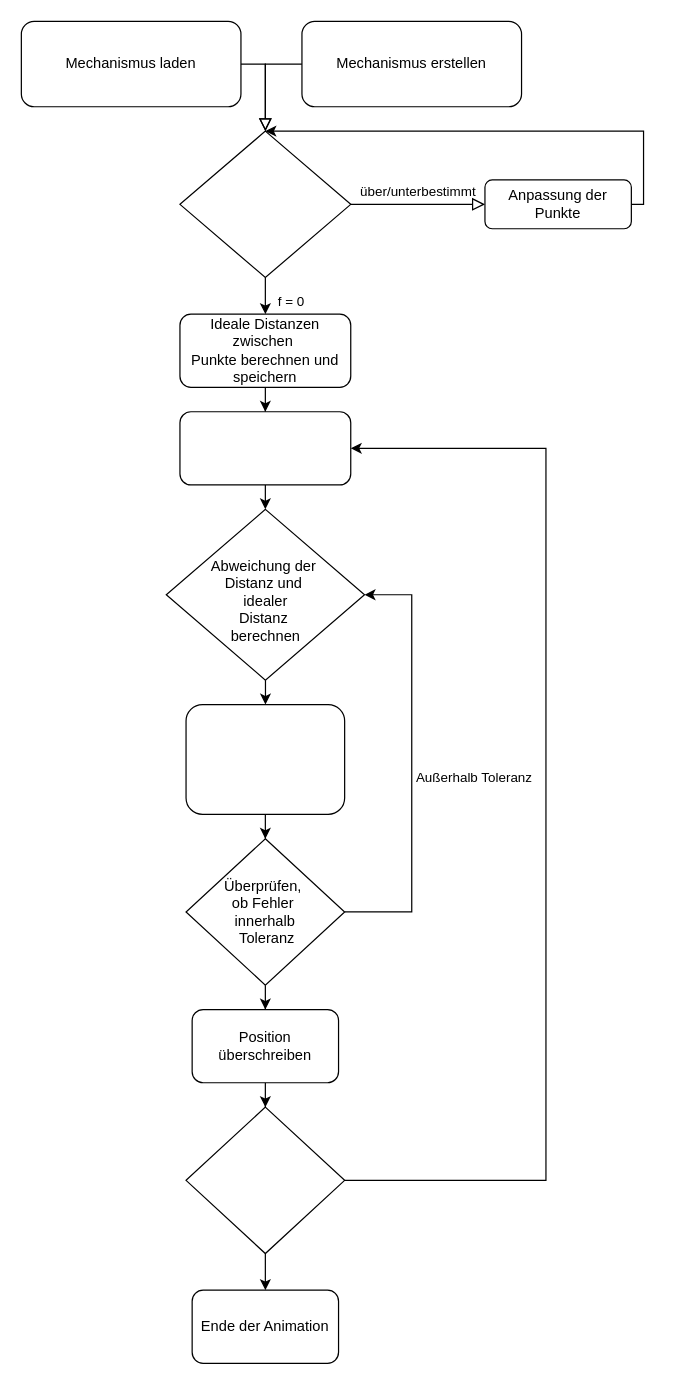
The diagram is 675 pixels wide and 1385 high, and some of its shapes have lost their labels. The centre of each missing label's shape, as x and y in pixels:
"Drehwinkel um 1° ändern" belongs at [265,448].
"Freiheitsgrade überprüfen" belongs at [265,204].
"Position mittels least_square - Methode in scipy ermitteln" belongs at [265,758].
"Volle Umrundung (360°) vollzogen" belongs at [265,1180].
